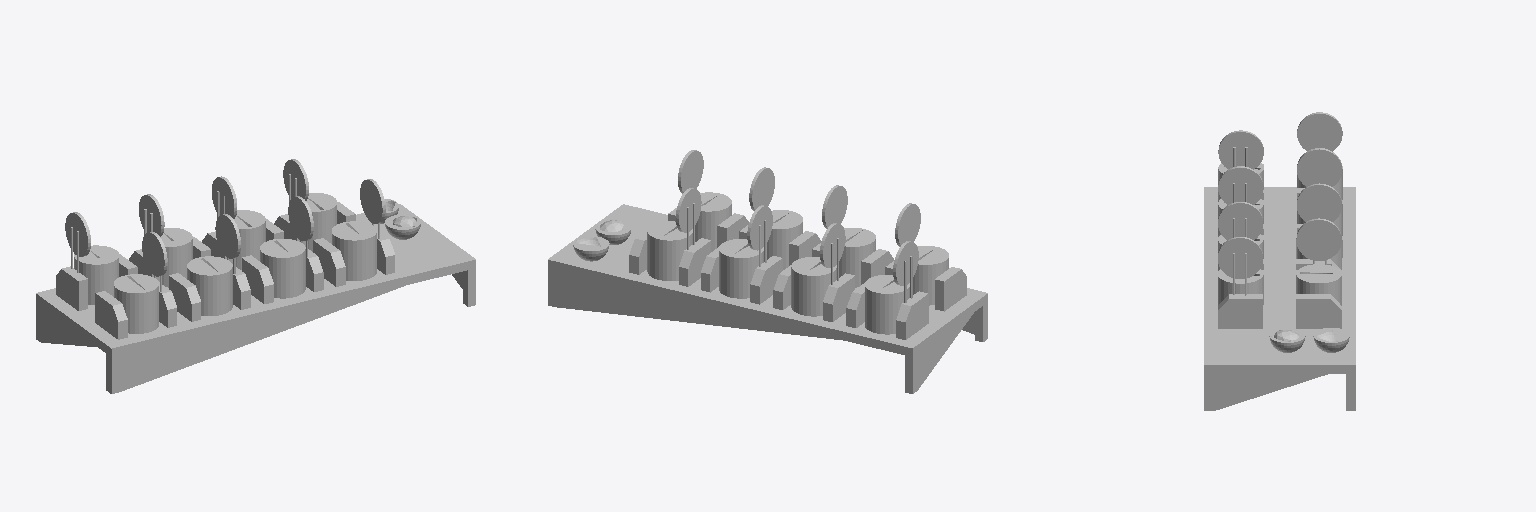
File: cuisiniere.obj
3 renders of one model, left to right at view 1: azimuth 30°, elevation 25°; view 2: azimuth 150°, elevation 25°; view 3: azimuth 270°, elevation 25°, orthographic.
Parts seen in each view (by area): view 1: Cube.14135_Cube.14186, Cylinder.4787_Cylinder.4880, Cylinder.4785_Cylinder.4878, Cylinder.4783_Cylinder.4876, Cylinder.4781_Cylinder.4874, Cylinder.4786_Cylinder.4879, Cylinder.4784_Cylinder.4877, Cylinder.4782_Cylinder.4875, Cylinder.4780_Cylinder.4873; view 2: Cube.14135_Cube.14186, Cylinder.4786_Cylinder.4879, Cylinder.4784_Cylinder.4877, Cylinder.4782_Cylinder.4875, Cylinder.4780_Cylinder.4873, Cylinder.4787_Cylinder.4880, Cylinder.4785_Cylinder.4878, Cylinder.4783_Cylinder.4876, Cylinder.4781_Cylinder.4874, Sphere.301_Sphere.544; view 3: Cube.14135_Cube.14186, Cylinder.4780_Cylinder.4873, Cylinder.4781_Cylinder.4874, Cylinder.4782_Cylinder.4875, Cylinder.4784_Cylinder.4877, Cylinder.4787_Cylinder.4880, Cylinder.4786_Cylinder.4879, Cylinder.4785_Cylinder.4878, Cylinder.4783_Cylinder.4876, Sphere.301_Sphere.544.
Boxes of the visible parts, box(x1,y1,x2,y2) form: Cube.14135_Cube.14186: box(36, 204, 475, 393); Cylinder.4787_Cylinder.4880: box(95, 232, 176, 339); Cylinder.4785_Cylinder.4878: box(169, 214, 250, 321); Cylinder.4783_Cylinder.4876: box(242, 196, 323, 303); Cylinder.4781_Cylinder.4874: box(313, 179, 394, 286); Cylinder.4786_Cylinder.4879: box(56, 212, 137, 310); Cylinder.4784_Cylinder.4877: box(129, 194, 210, 287); Cylinder.4782_Cylinder.4875: box(202, 176, 283, 269); Cylinder.4780_Cylinder.4873: box(274, 159, 355, 251); Cube.14135_Cube.14186: box(548, 204, 987, 393); Cylinder.4786_Cylinder.4879: box(846, 241, 928, 339); Cylinder.4784_Cylinder.4877: box(773, 223, 854, 321); Cylinder.4782_Cylinder.4875: box(701, 205, 782, 304); Cylinder.4780_Cylinder.4873: box(629, 188, 710, 286); Cylinder.4787_Cylinder.4880: box(885, 203, 966, 311); Cylinder.4785_Cylinder.4878: box(812, 185, 893, 287); Cylinder.4783_Cylinder.4876: box(739, 167, 821, 269); Cylinder.4781_Cylinder.4874: box(668, 150, 748, 251); Sphere.301_Sphere.544: box(573, 236, 609, 261); Cube.14135_Cube.14186: box(1204, 187, 1355, 410); Cylinder.4780_Cylinder.4873: box(1296, 218, 1341, 328); Cylinder.4781_Cylinder.4874: box(1218, 237, 1263, 328); Cylinder.4782_Cylinder.4875: box(1296, 183, 1341, 271); Cylinder.4784_Cylinder.4877: box(1297, 148, 1342, 257); Cylinder.4787_Cylinder.4880: box(1218, 130, 1263, 201); Cylinder.4786_Cylinder.4879: box(1297, 112, 1342, 202); Cylinder.4785_Cylinder.4878: box(1218, 166, 1263, 236); Cylinder.4783_Cylinder.4876: box(1218, 202, 1263, 270); Sphere.301_Sphere.544: box(1313, 328, 1349, 352).
Bounding box in the file's own units: 7.13 × 2.47 × 2.57.